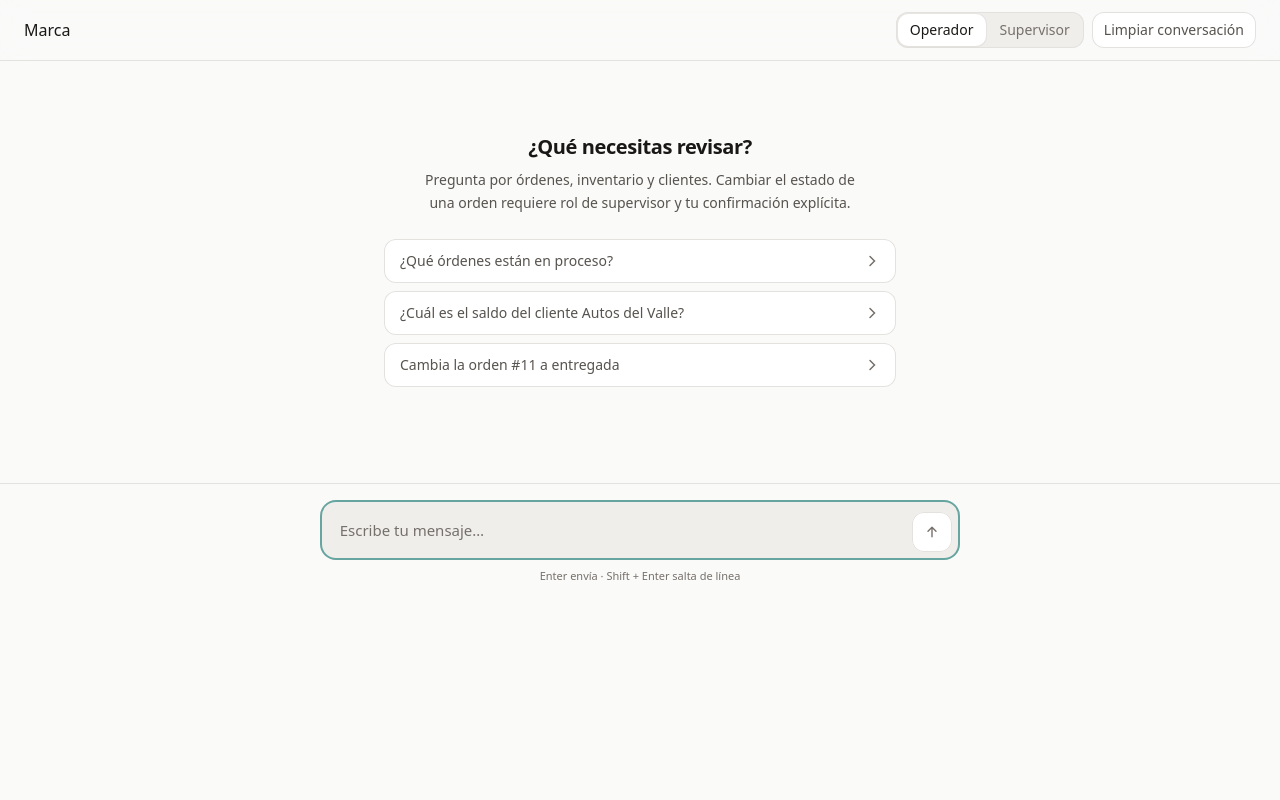
Test case: ChatWindow › disables the composer while a confirmation card is active
Type "cambia la orden #3 a entregada" into the text box labelled "Escribe tu mensaje…" at [616, 530], box x1=328 y1=508 x2=904 y2=552
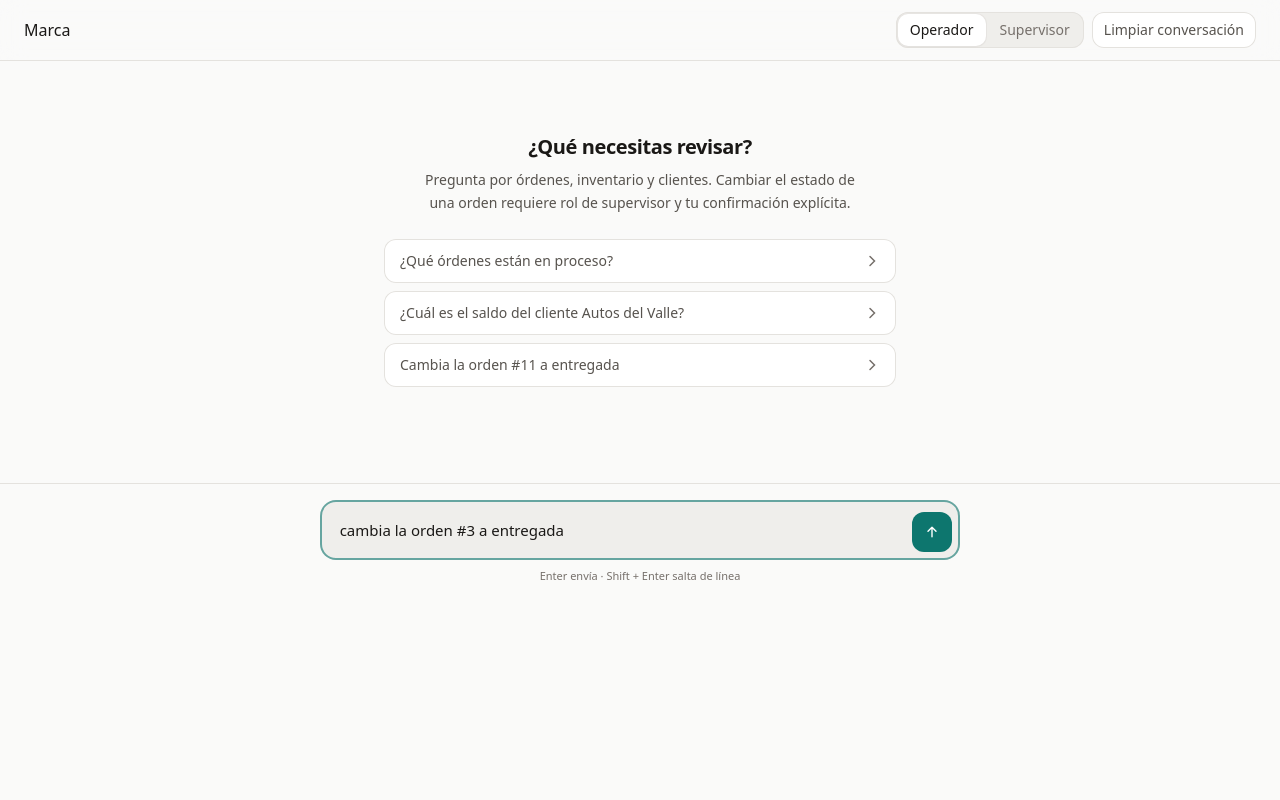
Click the button named "enviar" at [932, 532], box x1=912 y1=512 x2=952 y2=552
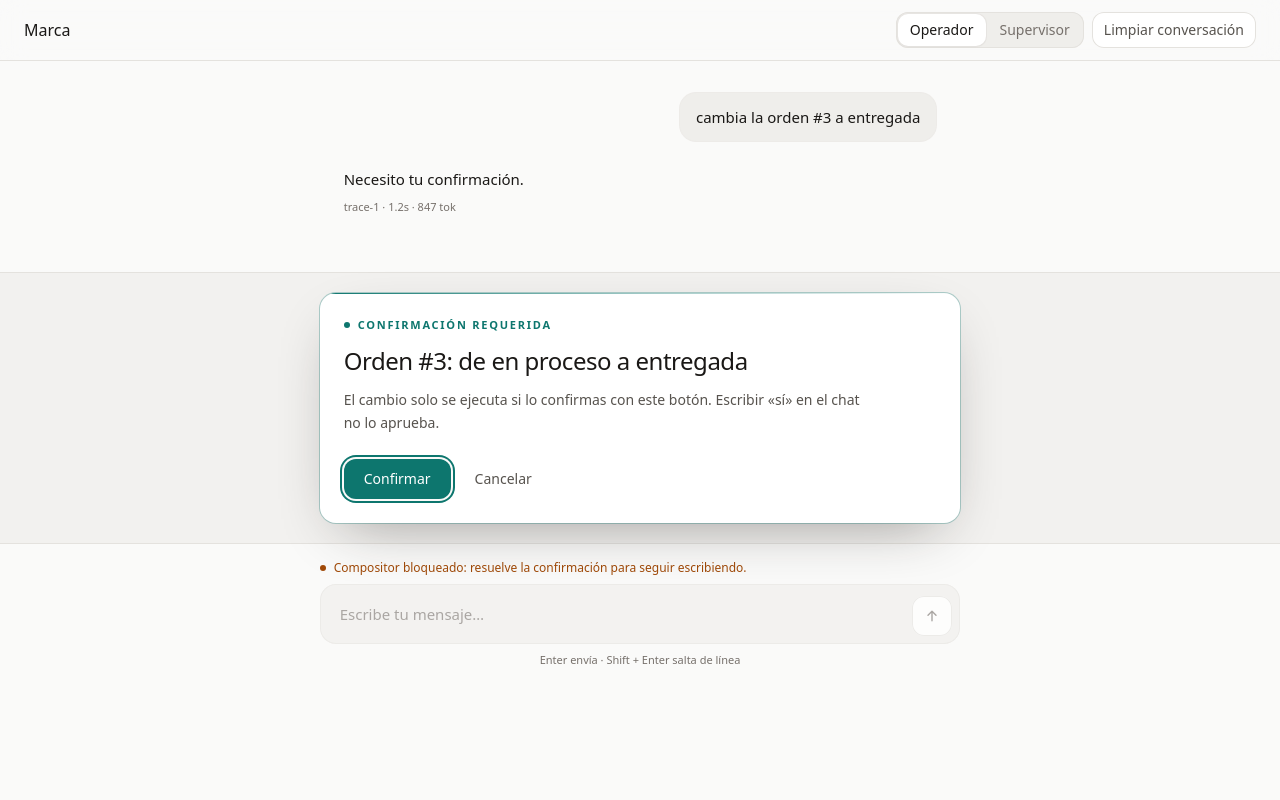
Check: the message is shown, box x1=320 y1=292 x2=960 y2=522
Check: the text box labelled "Escribe tu mensaje…" is disabled, box x1=328 y1=592 x2=904 y2=636
Check: the button named "enviar" is disabled, box x1=912 y1=596 x2=952 y2=636
